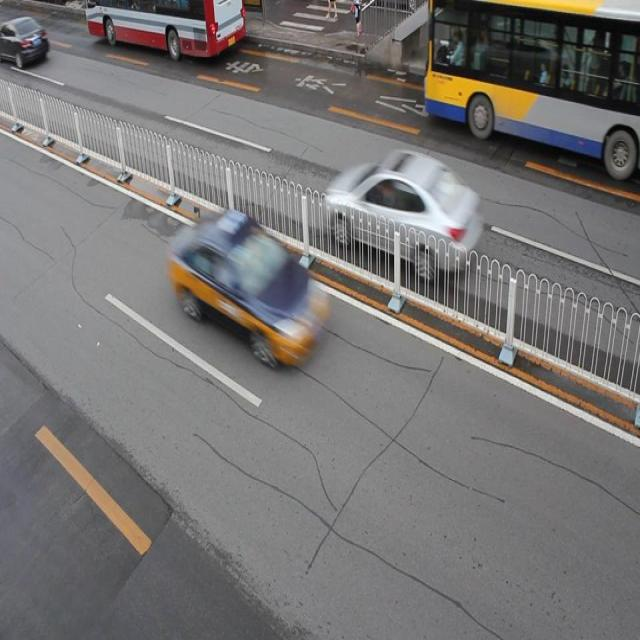car: (170, 205, 323, 363), (326, 147, 478, 278), (0, 16, 50, 67)
van: (423, 1, 640, 180), (88, 1, 247, 64)
